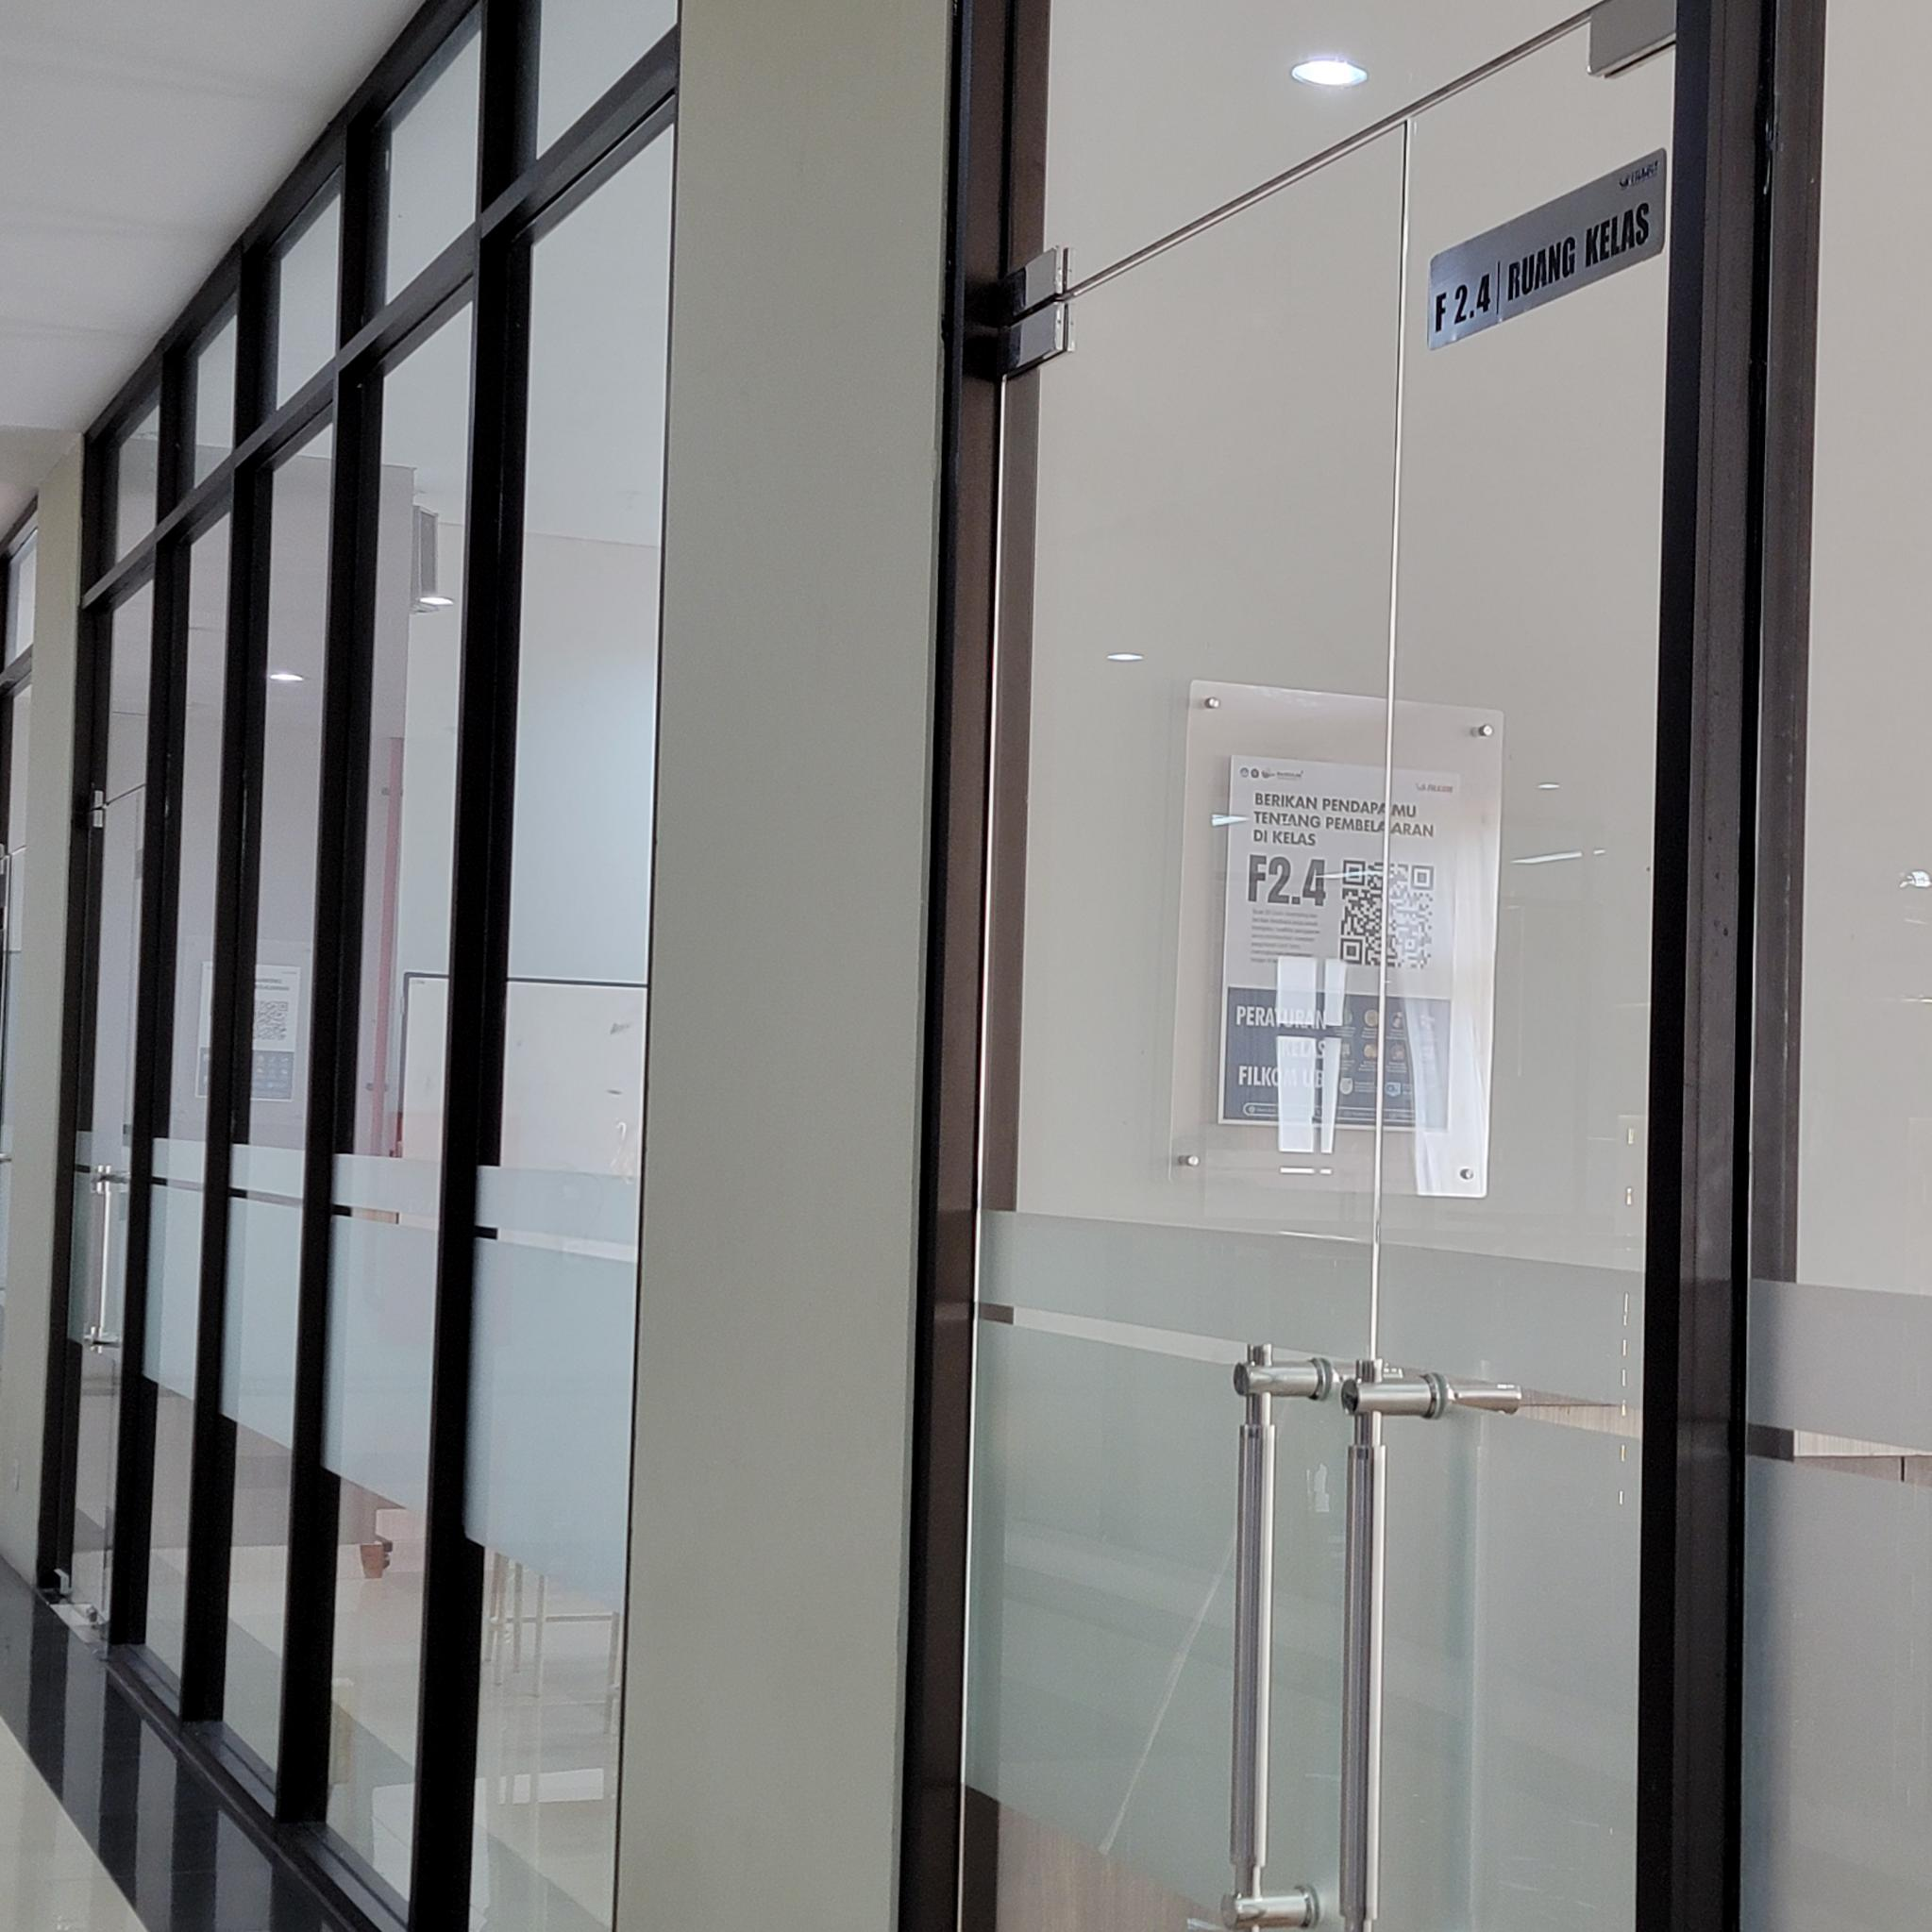plate: (1426, 145, 1668, 352)
